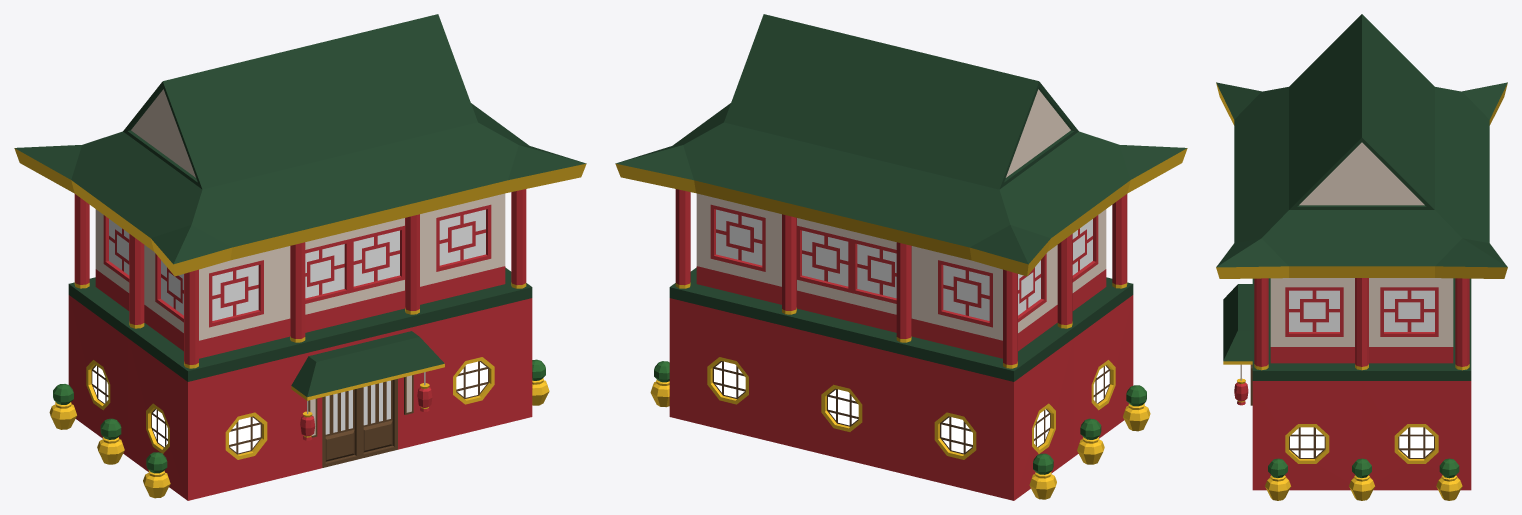
The model's file is buildings-building-antique-china.glb.
3 views of the same model, side by side, from view 1: azimuth 30°, elevation 25°; view 2: azimuth 150°, elevation 25°; view 3: azimuth 270°, elevation 25° (orthographic). The views are drawn at different scales.
Parts seen in each view (by area): view 1: building-antique-china; view 2: building-antique-china; view 3: building-antique-china.
Part boxes in pixels (x1=…): building-antique-china: x1=14, y1=14, x2=586, y2=500; building-antique-china: x1=615, y1=14, x2=1187, y2=500; building-antique-china: x1=1216, y1=14, x2=1507, y2=500.
Size of the model in its own units: 12 by 10.2 by 8.
